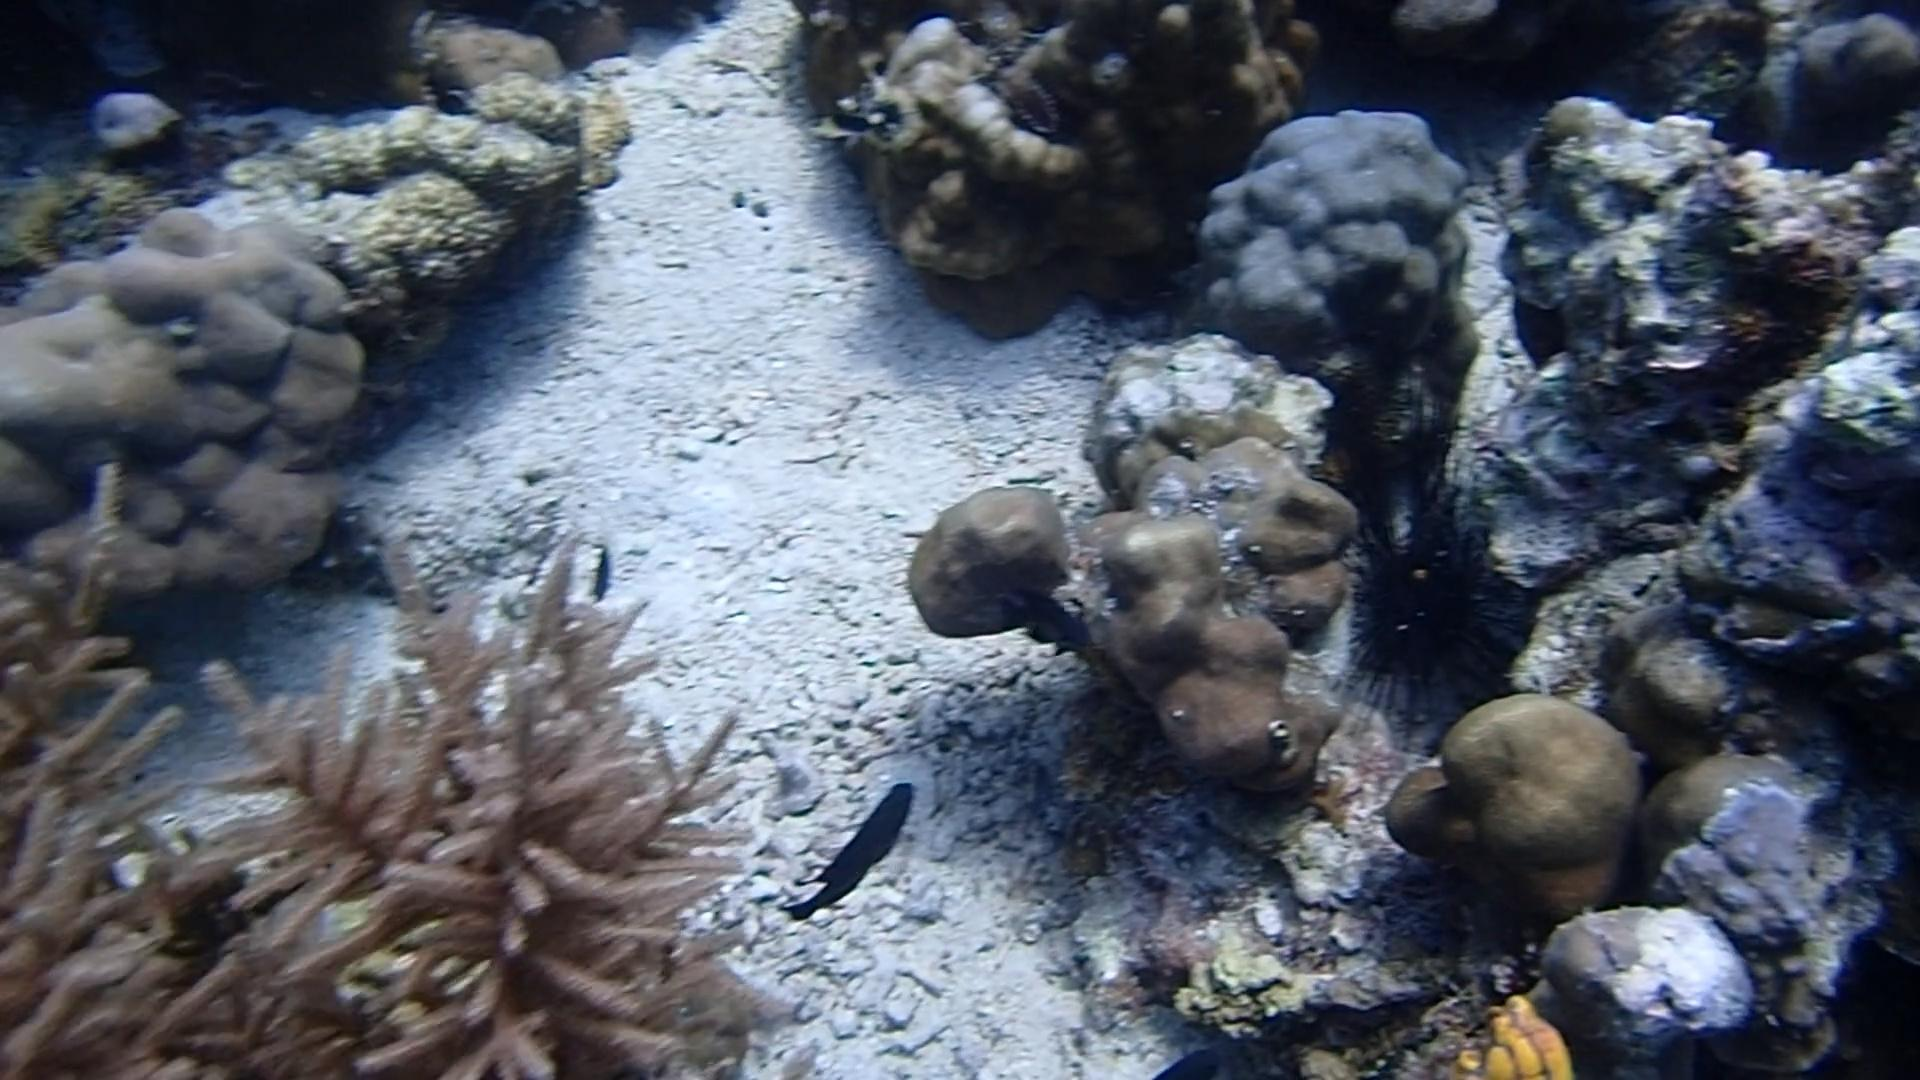Dark Fish: (778, 767, 935, 915), (994, 579, 1104, 662)
Yellow Tail: (800, 102, 881, 146), (582, 538, 617, 604)
